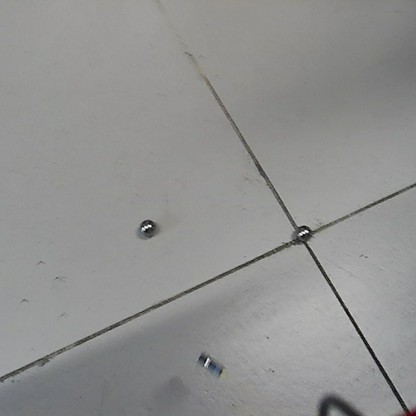ironball: (136, 217, 159, 241), (295, 224, 312, 244)
